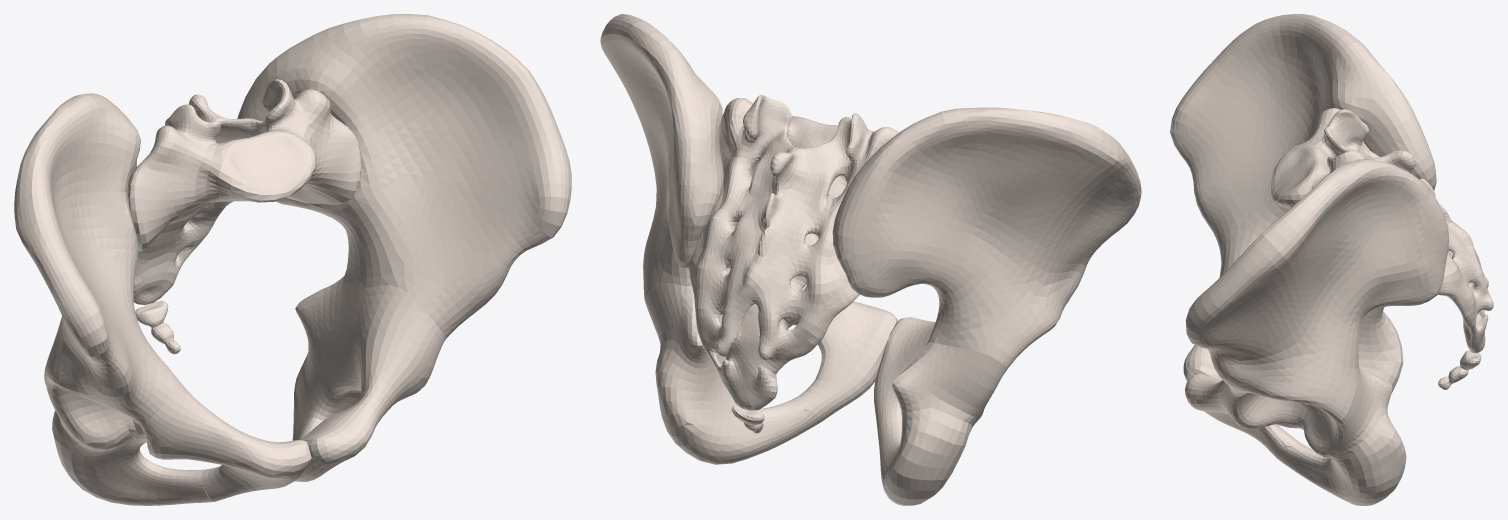
The model's file is VH_M_Pelvis_0.8.glb.
3 renders of one model, left to right at view 1: azimuth 30°, elevation 25°; view 2: azimuth 150°, elevation 25°; view 3: azimuth 270°, elevation 25°, orthographic. The views are drawn at different scales.
Visible parts, largest first — view 1: VH_M_ilium_compact_bone_L, VH_M_ilium_compact_bone_R, VH_M_sacrum, VH_M_pubis_compact_bone_L, VH_M_ischium_compact_bone_R, VH_M_pubis_compact_bone_R, VH_M_ischium_compact_bone_L, VH_M_coccyx; view 2: VH_M_ilium_compact_bone_R, VH_M_sacrum, VH_M_ilium_compact_bone_L, VH_M_ischium_compact_bone_L, VH_M_ischium_compact_bone_R, VH_M_pubis_compact_bone_L, VH_M_pubis_compact_bone_R; view 3: VH_M_ilium_compact_bone_L, VH_M_ilium_compact_bone_R, VH_M_ischium_compact_bone_L, VH_M_sacrum, VH_M_pubis_compact_bone_L, VH_M_ischium_compact_bone_R, VH_M_pubis_compact_bone_R, VH_M_coccyx.
Boxes of the visible parts, x1=… form: VH_M_ilium_compact_bone_L: x1=237, y1=14, x2=571, y2=338; VH_M_ilium_compact_bone_R: x1=14, y1=93, x2=174, y2=423; VH_M_sacrum: x1=127, y1=79, x2=361, y2=305; VH_M_pubis_compact_bone_L: x1=295, y1=285, x2=445, y2=481; VH_M_ischium_compact_bone_R: x1=45, y1=384, x2=214, y2=505; VH_M_pubis_compact_bone_R: x1=139, y1=370, x2=311, y2=501; VH_M_ischium_compact_bone_L: x1=292, y1=274, x2=365, y2=440; VH_M_coccyx: x1=135, y1=301, x2=180, y2=354; VH_M_ilium_compact_bone_R: x1=832, y1=107, x2=1141, y2=367; VH_M_sacrum: x1=688, y1=94, x2=898, y2=410; VH_M_ilium_compact_bone_L: x1=600, y1=14, x2=723, y2=299; VH_M_ischium_compact_bone_L: x1=644, y1=268, x2=821, y2=464; VH_M_ischium_compact_bone_R: x1=878, y1=342, x2=1007, y2=505; VH_M_pubis_compact_bone_L: x1=793, y1=284, x2=897, y2=421; VH_M_pubis_compact_bone_R: x1=874, y1=317, x2=935, y2=433; VH_M_ilium_compact_bone_L: x1=1185, y1=159, x2=1448, y2=421; VH_M_ilium_compact_bone_R: x1=1170, y1=14, x2=1436, y2=264; VH_M_ischium_compact_bone_L: x1=1276, y1=367, x2=1406, y2=505; VH_M_sacrum: x1=1271, y1=108, x2=1493, y2=353; VH_M_pubis_compact_bone_L: x1=1185, y1=373, x2=1299, y2=457; VH_M_ischium_compact_bone_R: x1=1289, y1=307, x2=1403, y2=428; VH_M_pubis_compact_bone_R: x1=1183, y1=261, x2=1291, y2=427; VH_M_coccyx: x1=1438, y1=350, x2=1481, y2=389.
Bounding box in the file's own units: 0.2835 × 0.2185 × 0.1729.
